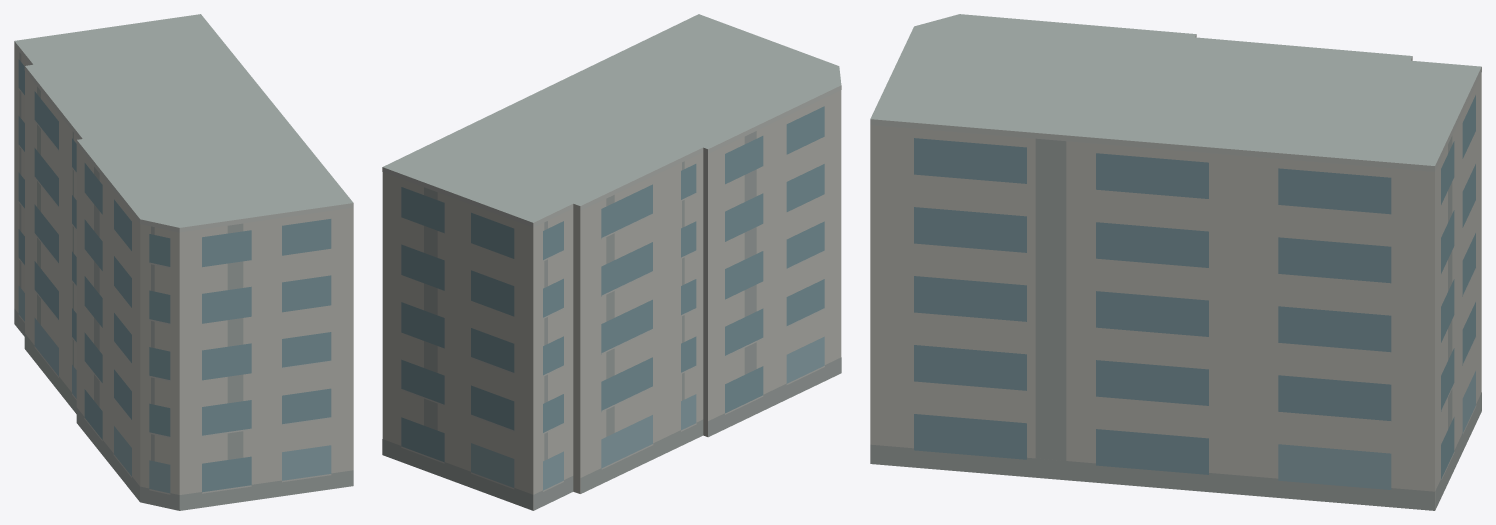
File: survey-upis-32617082.glb
3 views of the same model, side by side, from view 1: azimuth 30°, elevation 25°; view 2: azimuth 150°, elevation 25°; view 3: azimuth 270°, elevation 25° (orthographic). The views are drawn at different scales.
Visible parts, largest first — view 1: survey-upis-32617082.tmp; view 2: survey-upis-32617082.tmp; view 3: survey-upis-32617082.tmp.
Boxes of the visible parts, x1,y1,x2,y2 form: survey-upis-32617082.tmp: (14, 14, 353, 510); survey-upis-32617082.tmp: (382, 14, 841, 510); survey-upis-32617082.tmp: (870, 14, 1481, 510).
Size of the model in its own units: 13.73 by 14.5 by 23.32.
